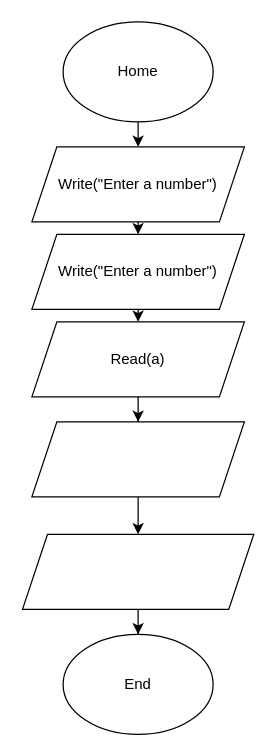
Some shapes in this 275 by 756 pixel diagram are drawn without their labels. The centre of each missing label's shape, as x and y in pixels:
Read(b ): point (137, 459)
Write("Result of operations"): point (137, 571)
